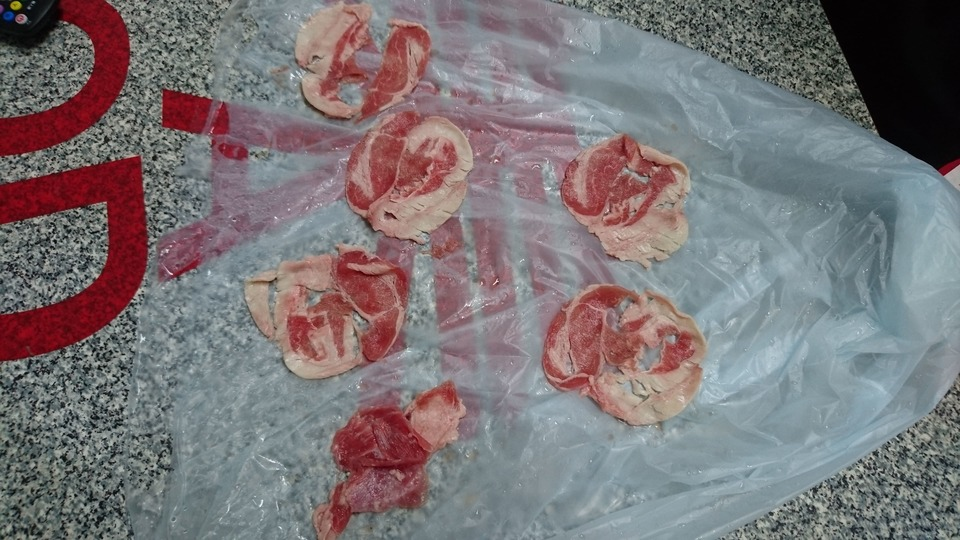restructured meat: (300, 379, 467, 540), (540, 276, 705, 433), (243, 238, 410, 378), (342, 109, 476, 243), (557, 129, 691, 263), (284, 1, 434, 115)
